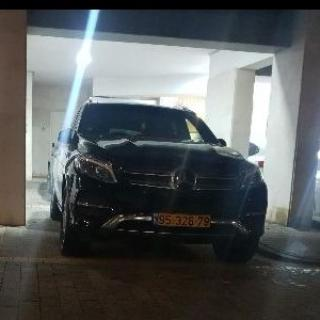LicensePlate: (159, 214, 211, 227)
